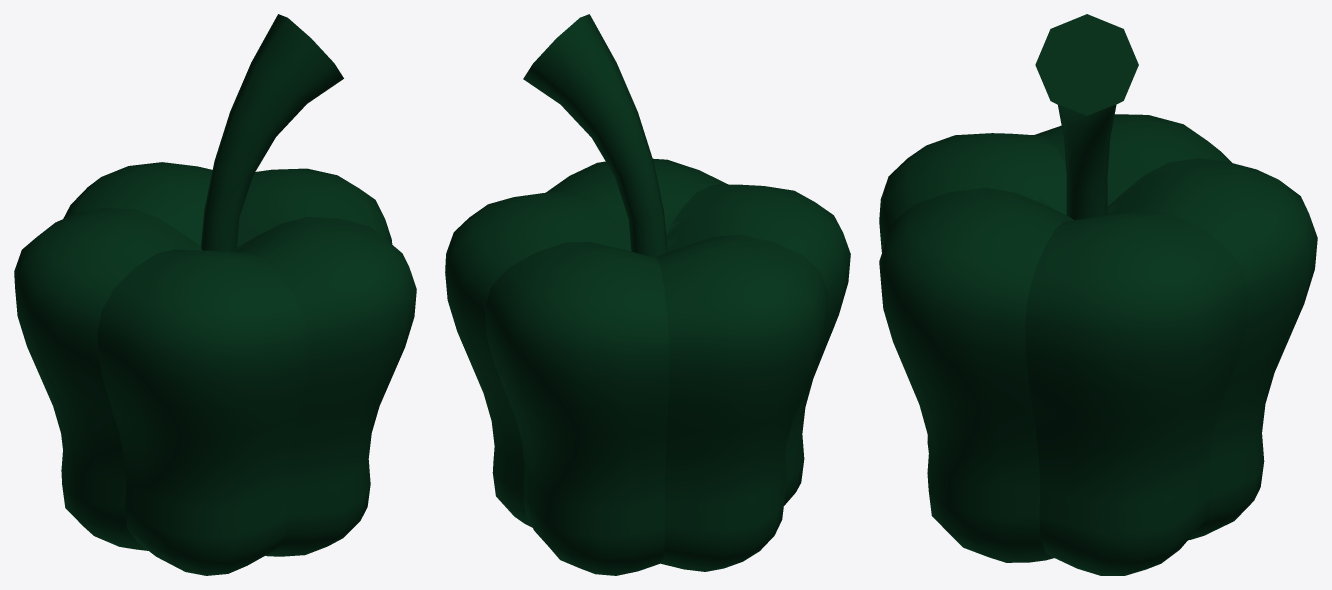
The model's file is GreenPepper.FBX.
The picture shows the model from 3 angles, left to right: view 1: azimuth 30°, elevation 25°; view 2: azimuth 150°, elevation 25°; view 3: azimuth 270°, elevation 25°; orthographic projection. The views are drawn at different scales.
Visible parts, largest first — view 1: GreenPepper; view 2: GreenPepper; view 3: GreenPepper.
Boxes of the visible parts, x1,y1,x2,y2 form: GreenPepper: [14, 14, 416, 575]; GreenPepper: [445, 14, 850, 575]; GreenPepper: [879, 14, 1317, 575].
Bounding box in the file's own units: 34.22 × 47.24 × 33.32.
